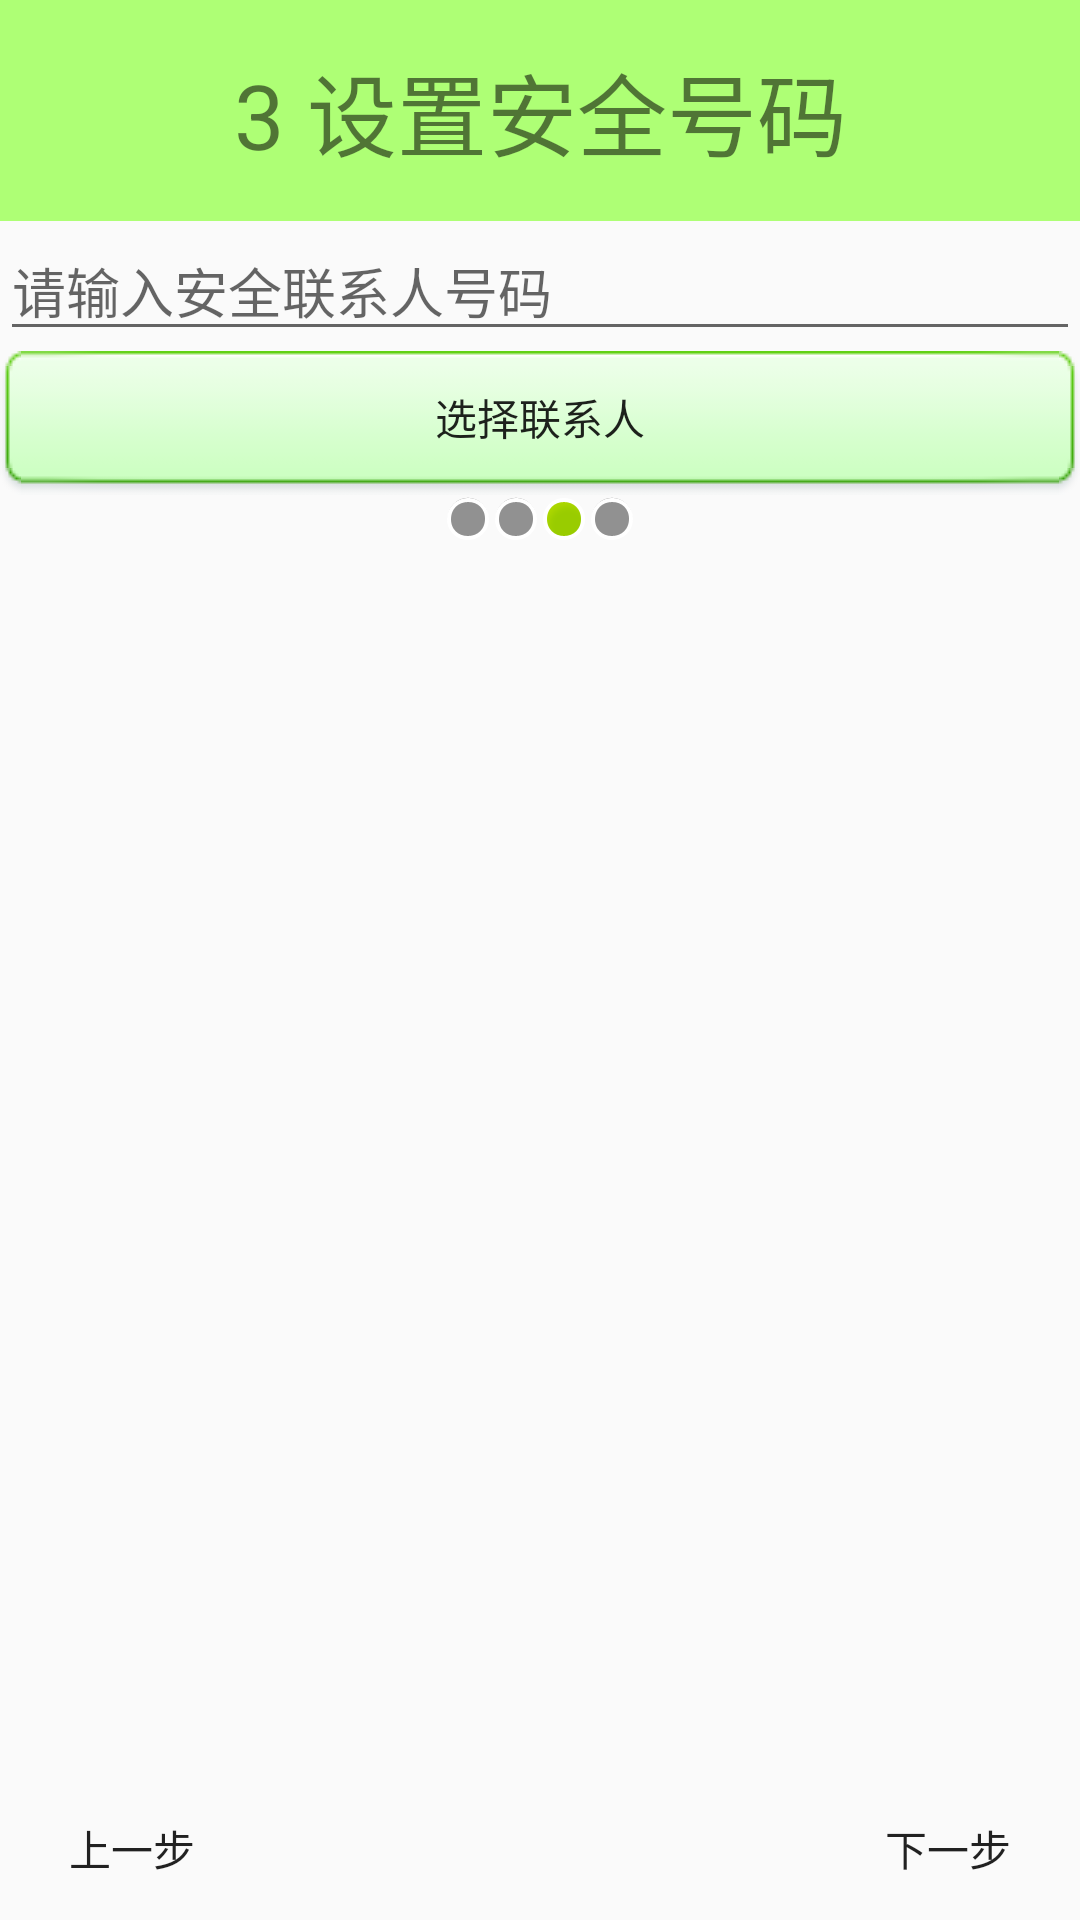

Icons on this 1080*1920 Android screen, each with its box as (x1, y1, x2, y2):
presence invisible: (451, 498, 485, 536), (499, 498, 533, 536), (595, 498, 629, 536)
presence online: (547, 502, 581, 536)
